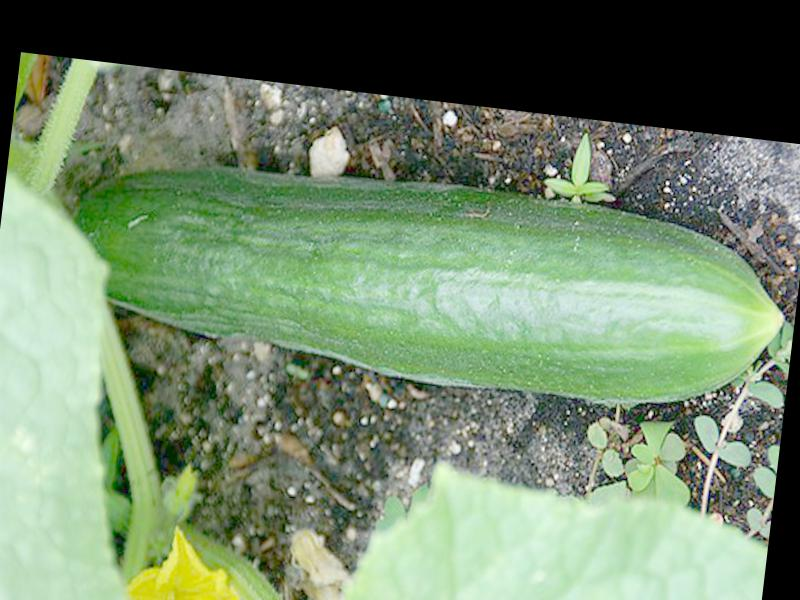Cucumber: (58, 140, 796, 423)
